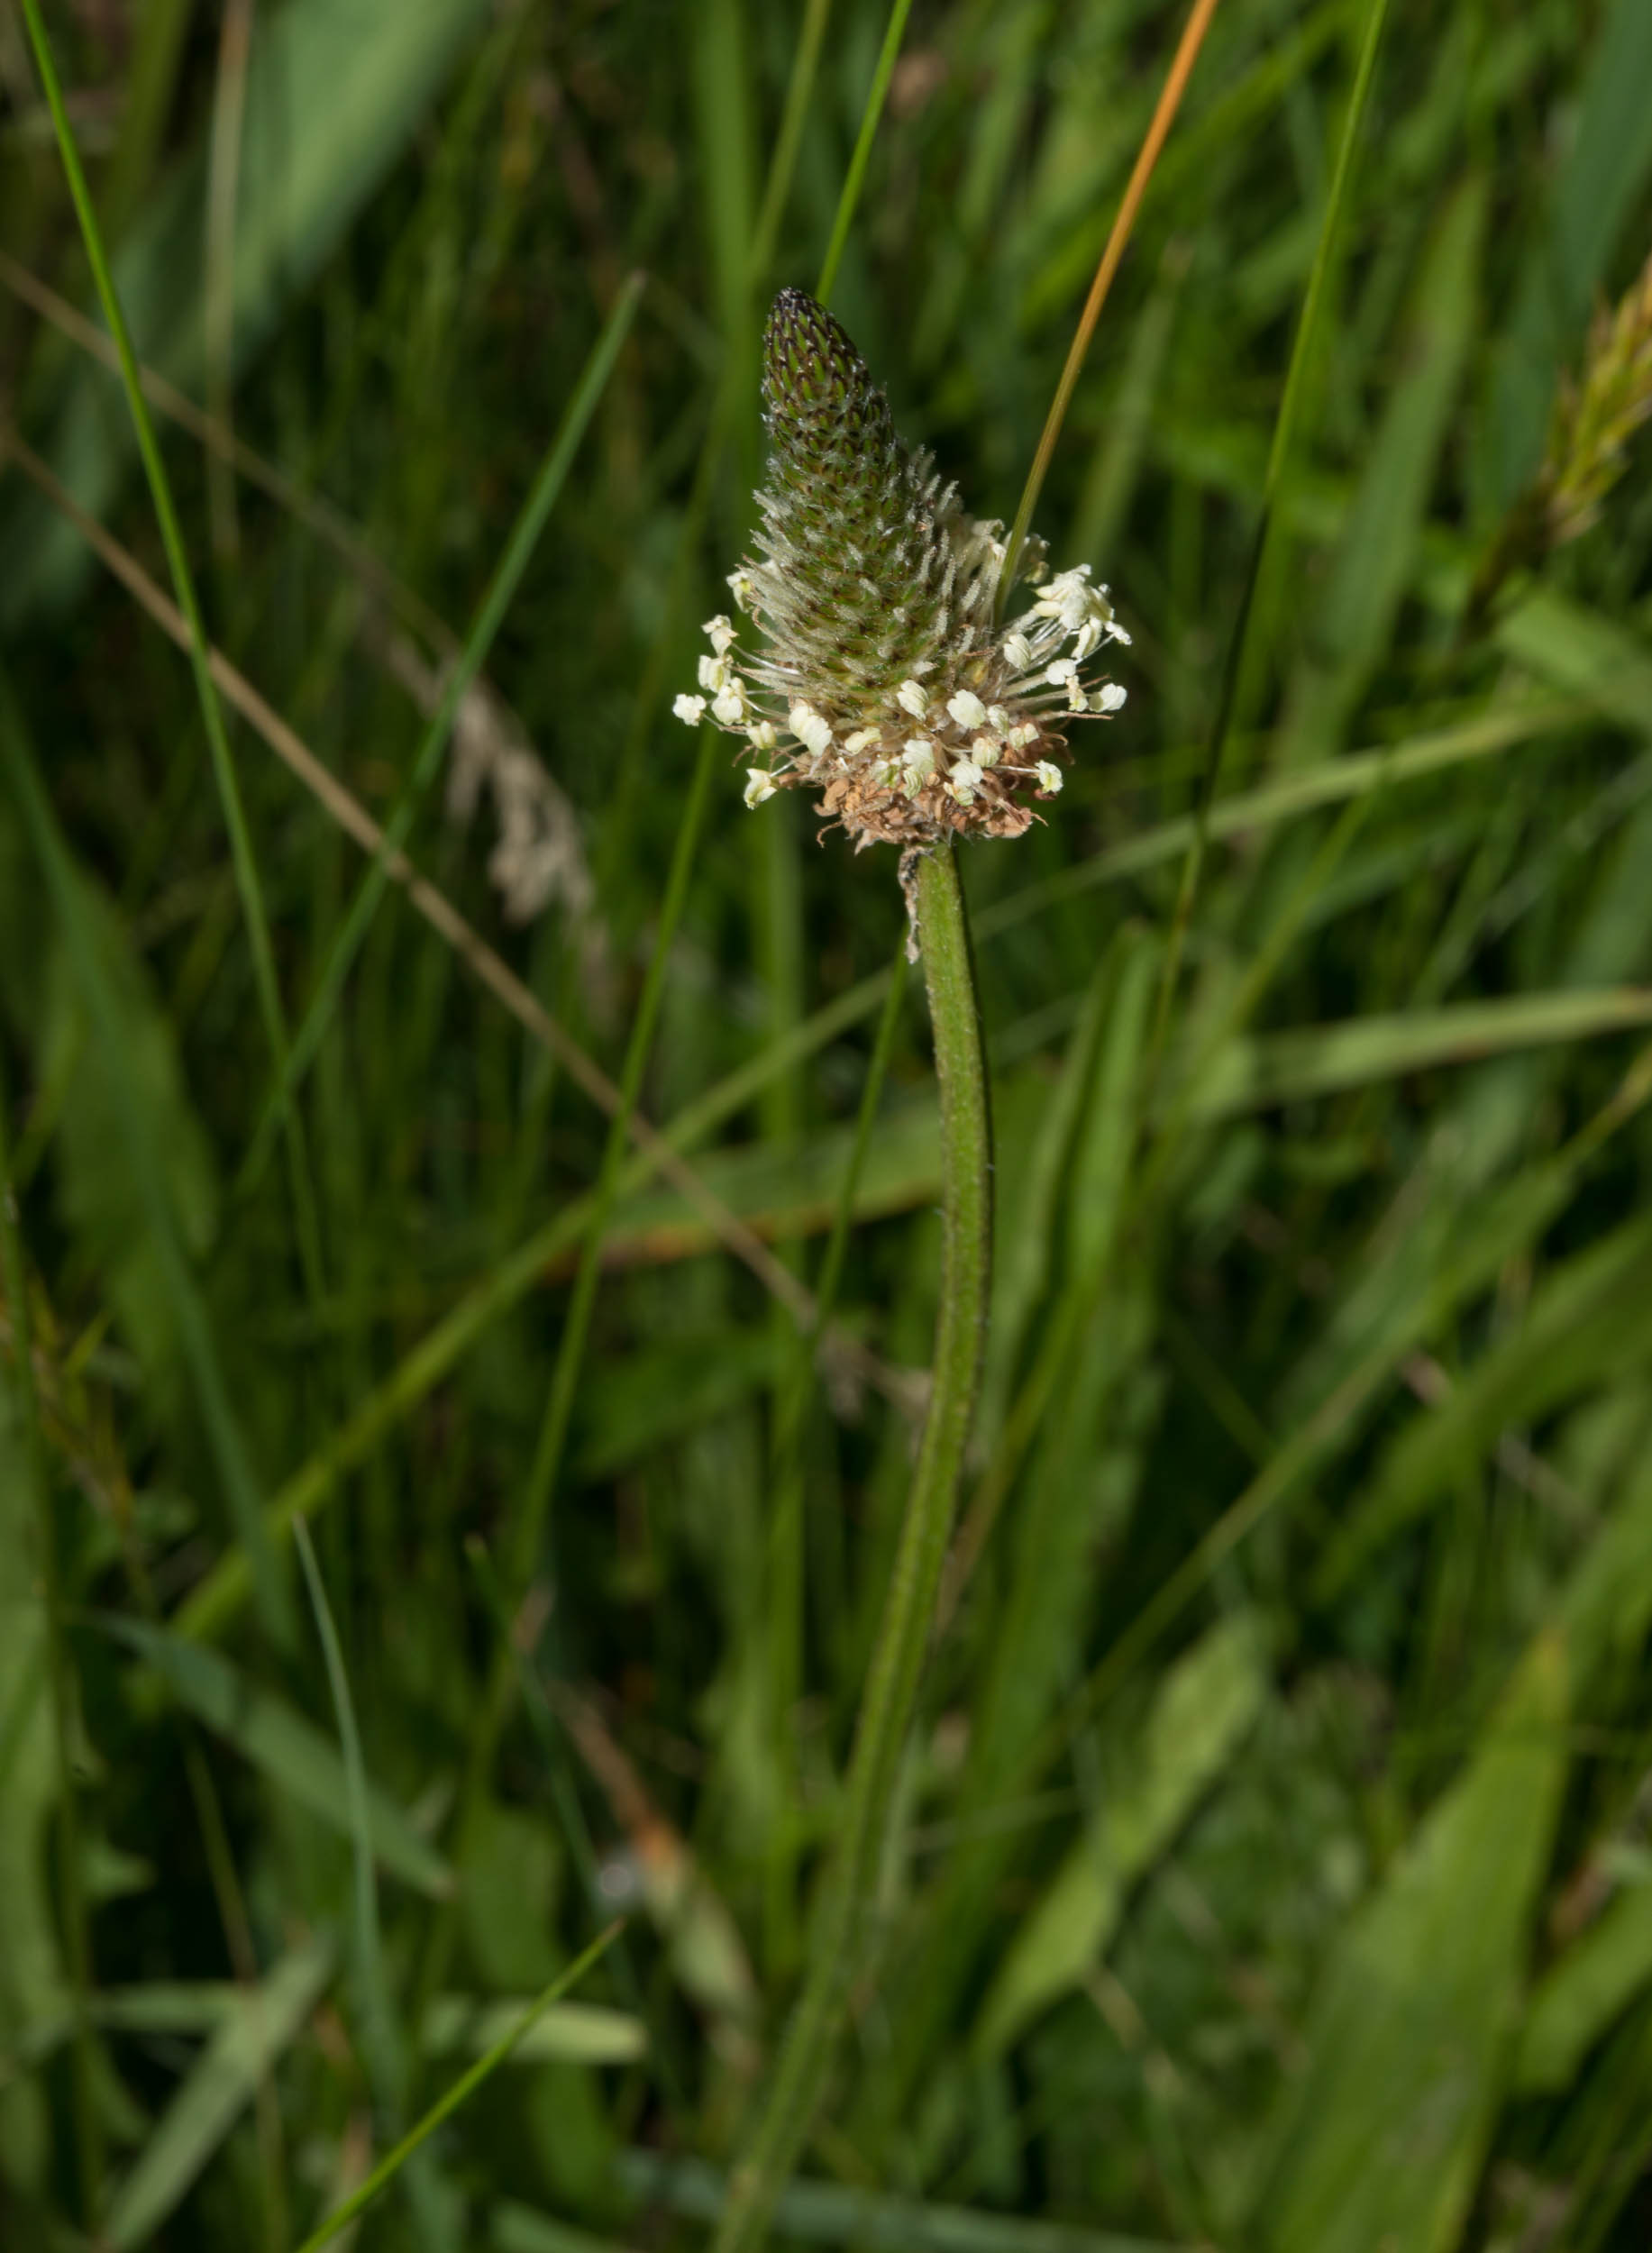buckhorn plantain: (672, 266, 1216, 1721)
